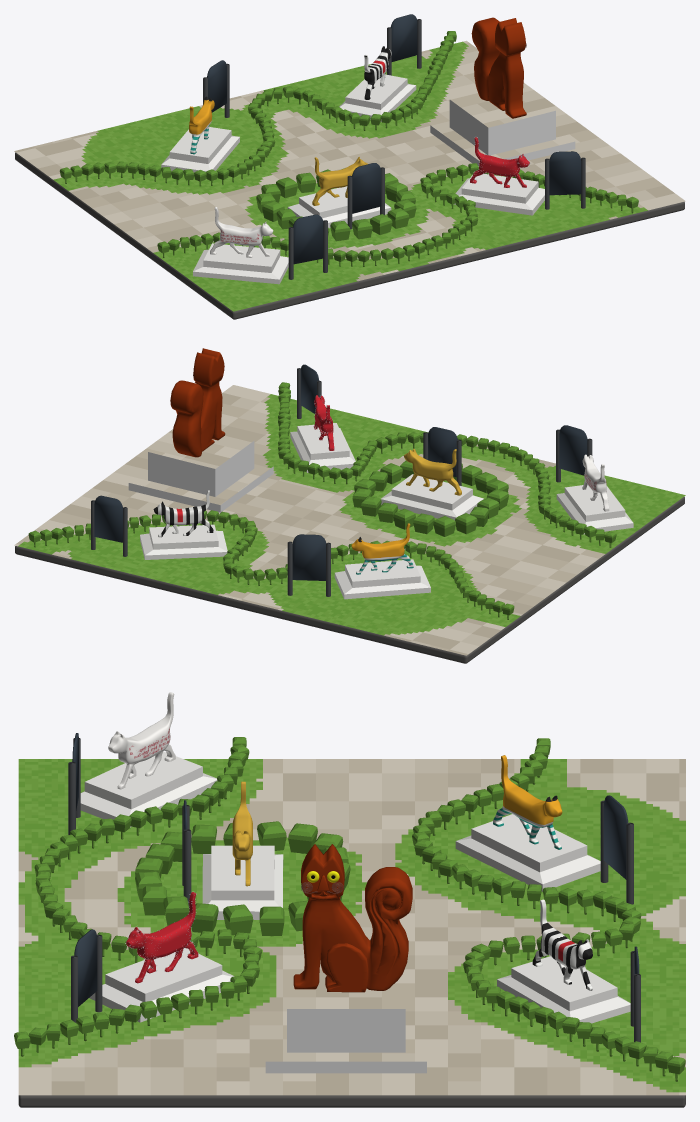
The model's file is lugar_gato-de-tejada.glb.
3 views of the same model, one above another, from view 1: azimuth 30°, elevation 25°; view 2: azimuth 150°, elevation 25°; view 3: azimuth 270°, elevation 25° (orthographic). The views are drawn at different scales.
Parts seen in each view (by area): view 1: suelo_pasto_y_camino, Cube, Cubo.008, Cube.007, Cubo.007, Cubo.009, Cubo.012, Cubo, Cubo.003, Cubo.010, Cubo.005, Plano.001 (+9 smaller); view 2: suelo_pasto_y_camino, Cube, Cube.007, Cubo.007, Cubo.008, Cubo.009, Cubo.003, Cubo.005, Cubo.010, Cubo.012, Cubo, Plano.003 (+9 smaller); view 3: suelo_pasto_y_camino, Cube, Cubo.008, Cubo.007, Cube.007, Cubo.009, Cubo.003, Cubo.012, Cubo.010, Cubo.005, Cubo, Cubo.013 (+8 smaller).
Boxes of the visible parts, x1,y1,x2,y2 form: suelo_pasto_y_camino: (14, 40, 685, 311); Cube: (430, 17, 575, 165); Cubo.008: (59, 31, 456, 186); Cube.007: (15, 152, 684, 319); Cubo.007: (157, 163, 638, 266); Cubo.009: (256, 168, 416, 241); Cubo.012: (193, 243, 288, 284); Cubo: (453, 173, 544, 215); Cubo.003: (161, 127, 239, 172); Cubo.010: (339, 74, 416, 121); Cubo.005: (287, 186, 391, 228); Plano.001: (549, 151, 581, 195); suelo_pasto_y_camino: (14, 385, 685, 655); Cube: (128, 348, 273, 512); Cube.007: (15, 496, 684, 663); Cubo.007: (278, 382, 616, 547); Cubo.008: (28, 510, 514, 619); Cubo.009: (352, 460, 508, 536); Cubo.003: (334, 559, 430, 599); Cubo.005: (381, 474, 483, 520); Cubo.010: (140, 524, 227, 559); Cubo.012: (556, 485, 633, 534); Cubo: (290, 423, 355, 472); Plano.003: (292, 534, 325, 580); suelo_pasto_y_camino: (18, 759, 685, 1095); Cube: (265, 844, 426, 1073); Cubo.008: (412, 738, 685, 1081); Cubo.007: (14, 737, 261, 1056); Cube.007: (18, 1095, 685, 1107); Cubo.009: (135, 821, 350, 936); Cubo.003: (455, 814, 600, 891); Cubo.012: (80, 751, 217, 827); Cubo.010: (497, 956, 630, 1023); Cubo.005: (202, 845, 283, 919); Cubo: (89, 948, 234, 1022); Cubo.013: (108, 692, 175, 789).
Size of the model in its own units: 14.53 by 4.09 by 12.25.
Materials: 22 (3 with a texture image).
